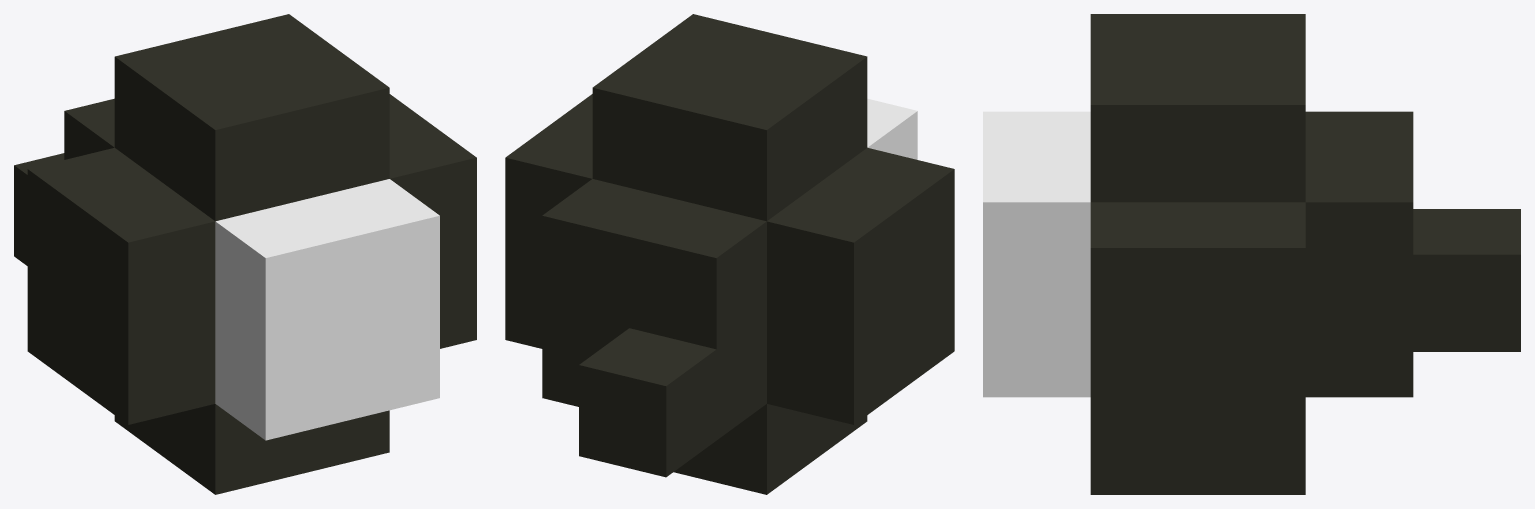
The model's file is Octo eye.obj.
3 views of the same model, side by side, from view 1: azimuth 30°, elevation 25°; view 2: azimuth 150°, elevation 25°; view 3: azimuth 270°, elevation 25° (orthographic). The views are drawn at different scales.
Bounding box in the file's own units: 4 × 4 × 5.
1 material, 1 textured.
